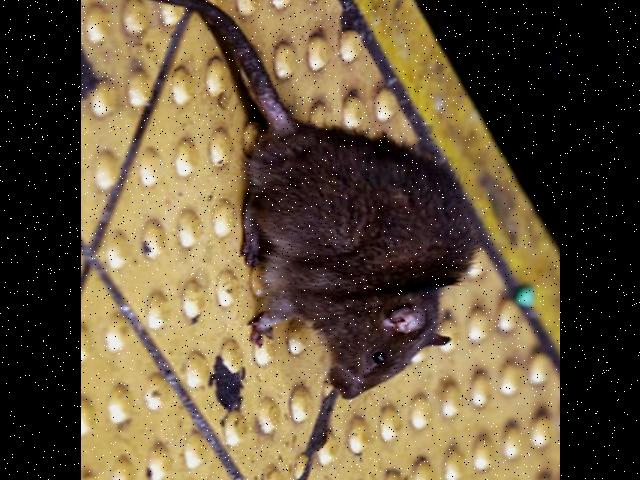Tikus: (238, 110, 477, 400)
